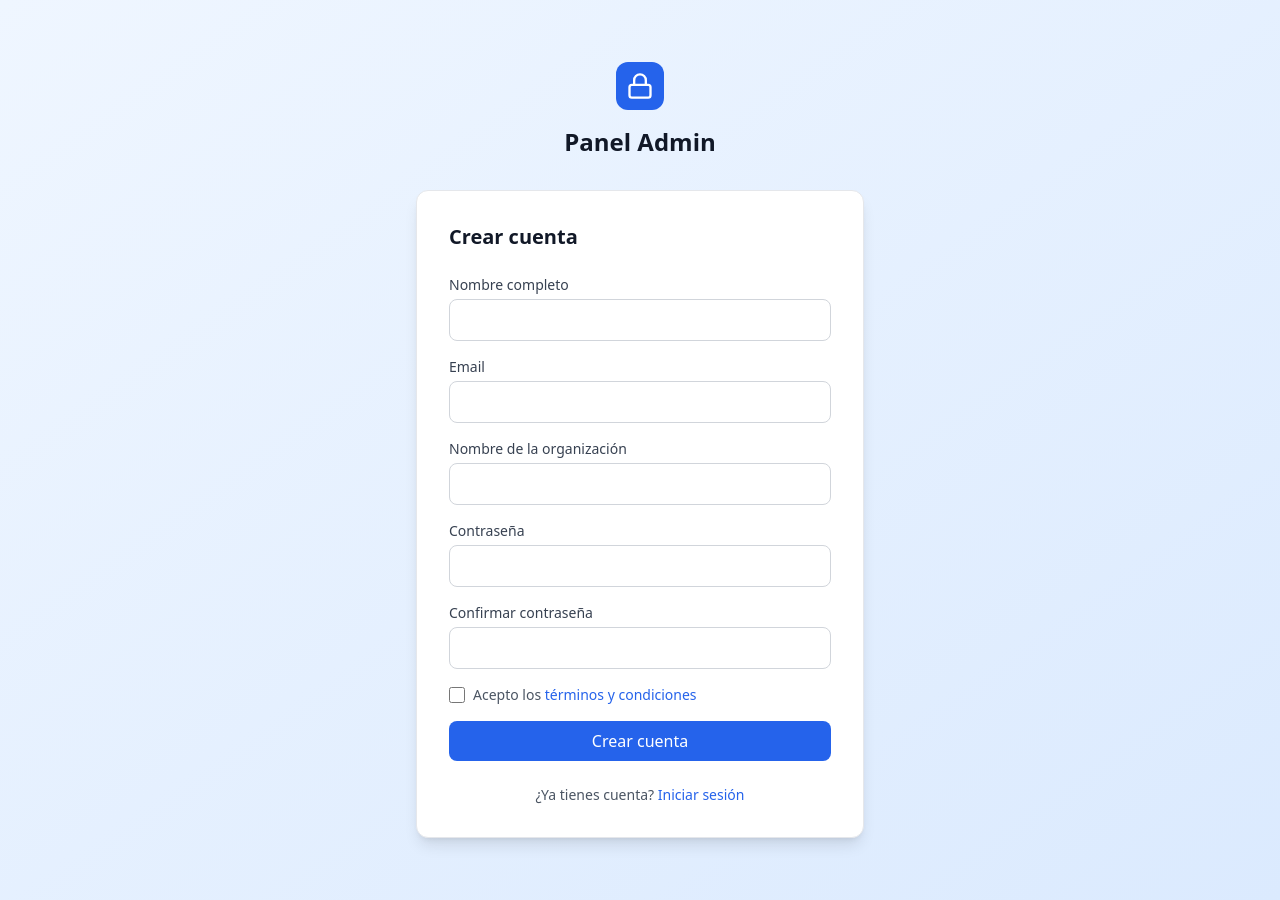
Test: RegisterPage › blocks submit when passwords do not match
In the field labelled "Nombre completo": (640, 320) [449,299,831,341], type "John Doe"
In the field labelled "Email": (640, 402) [449,381,831,423], type "john@example.com"
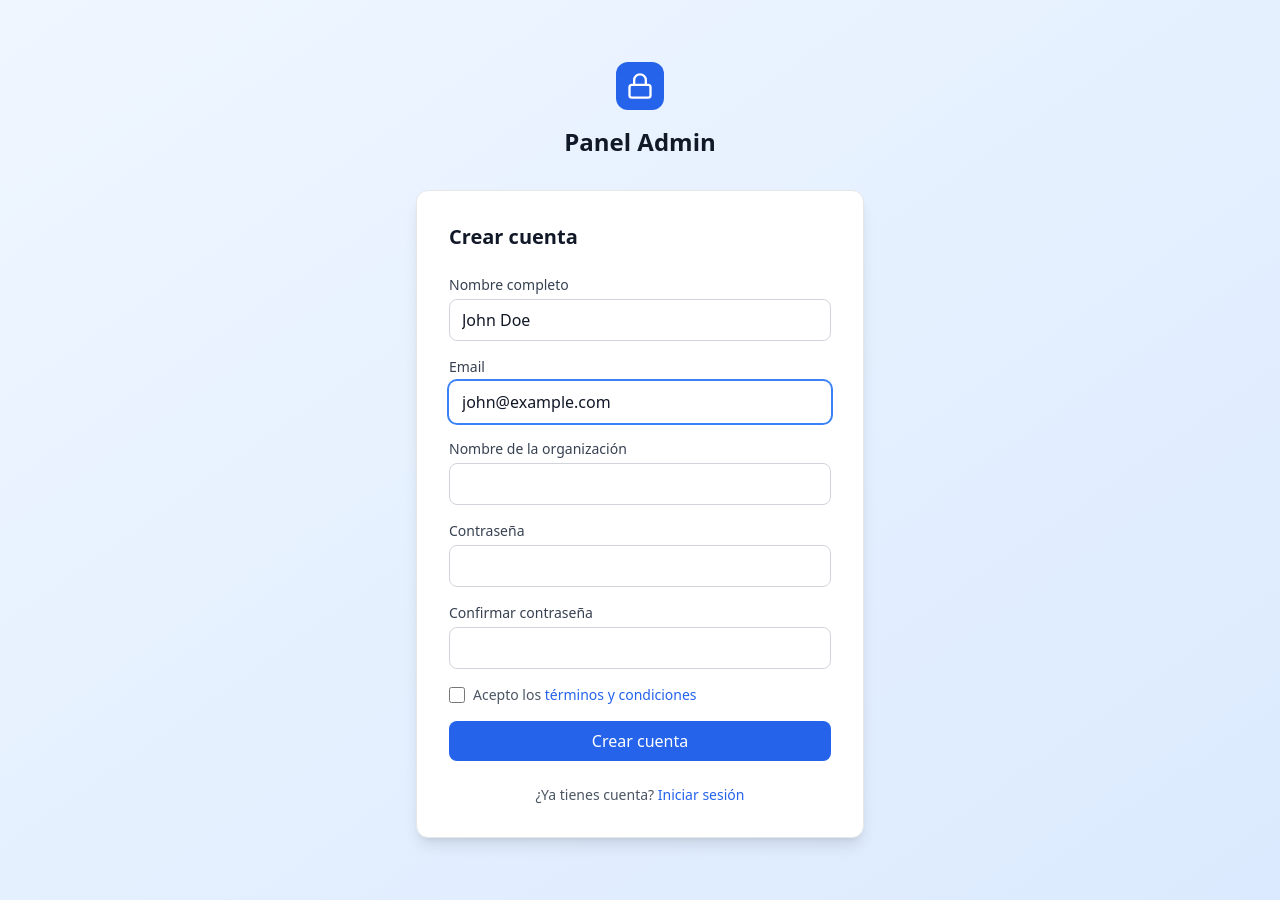
In the field labelled "Nombre de la organización": (640, 484) [449,463,831,505], type "Acme Corp"
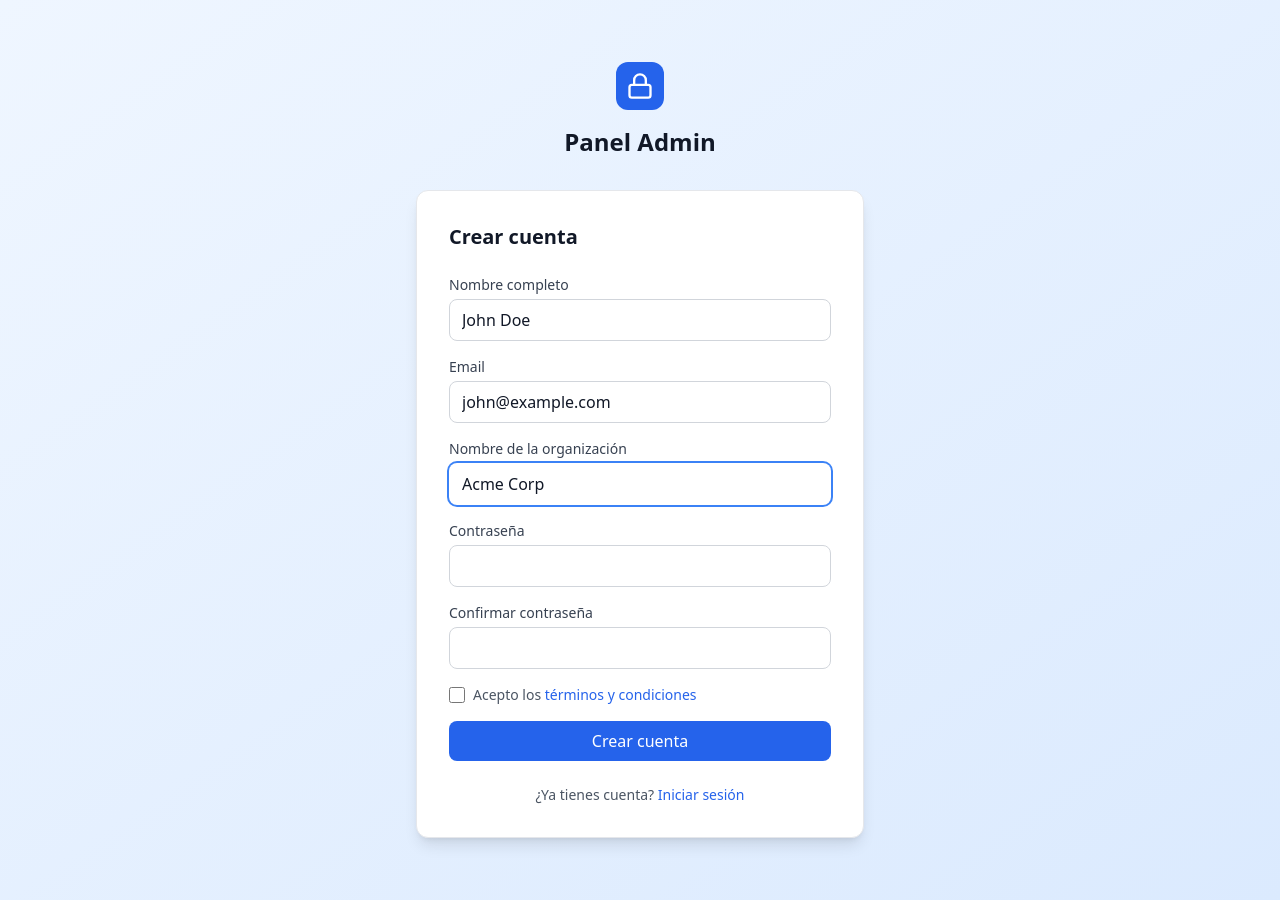
In the password field labelled "Contraseña": (640, 566) [449,545,831,587], type "password123"
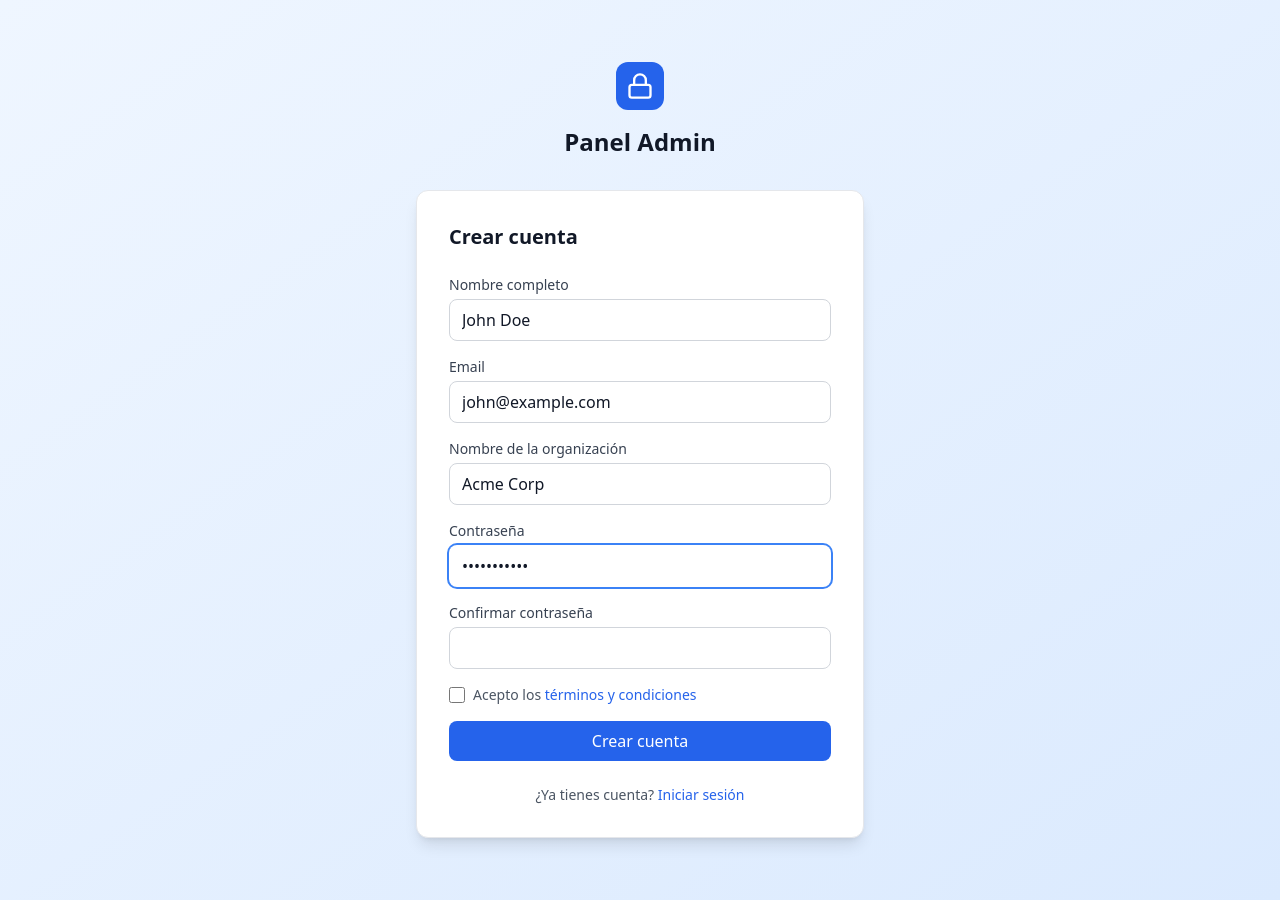
In the password field labelled "Confirmar contraseña": (640, 648) [449,627,831,669], type "different456"
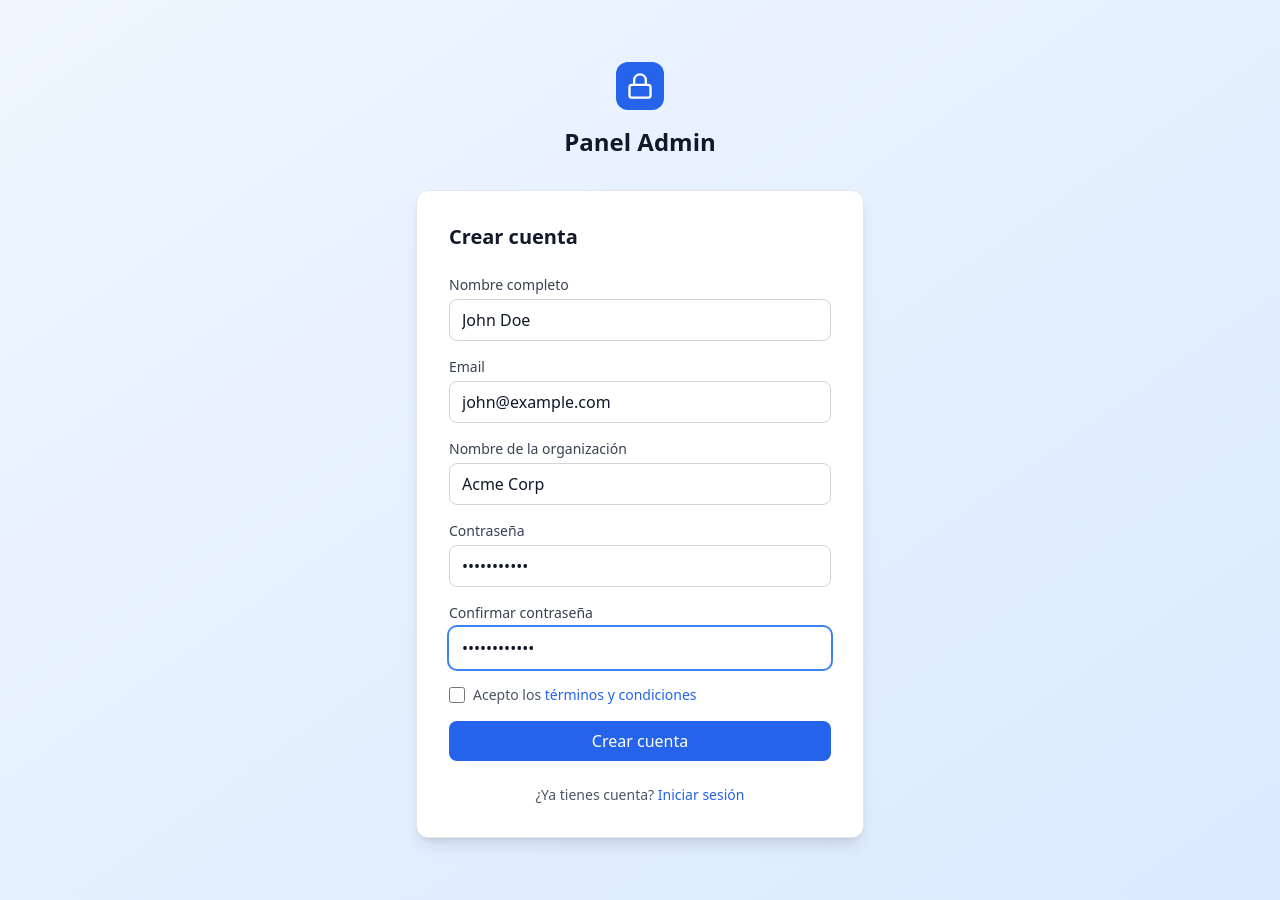
Click the checkbox labelled "Acepto los términos y condiciones": (457, 695) [449,687,465,703]
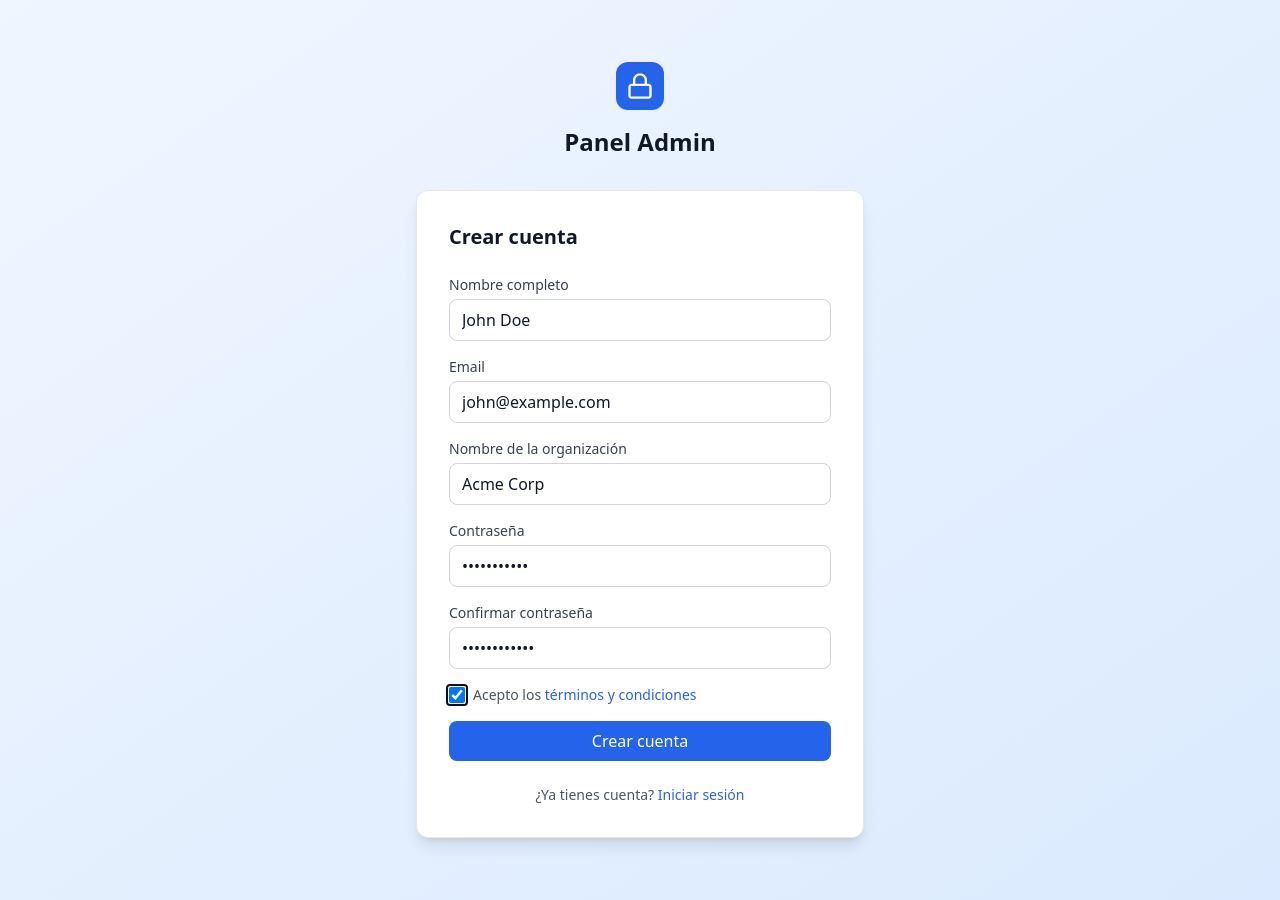
Click the button "Crear cuenta": (640, 741) [449,721,831,761]
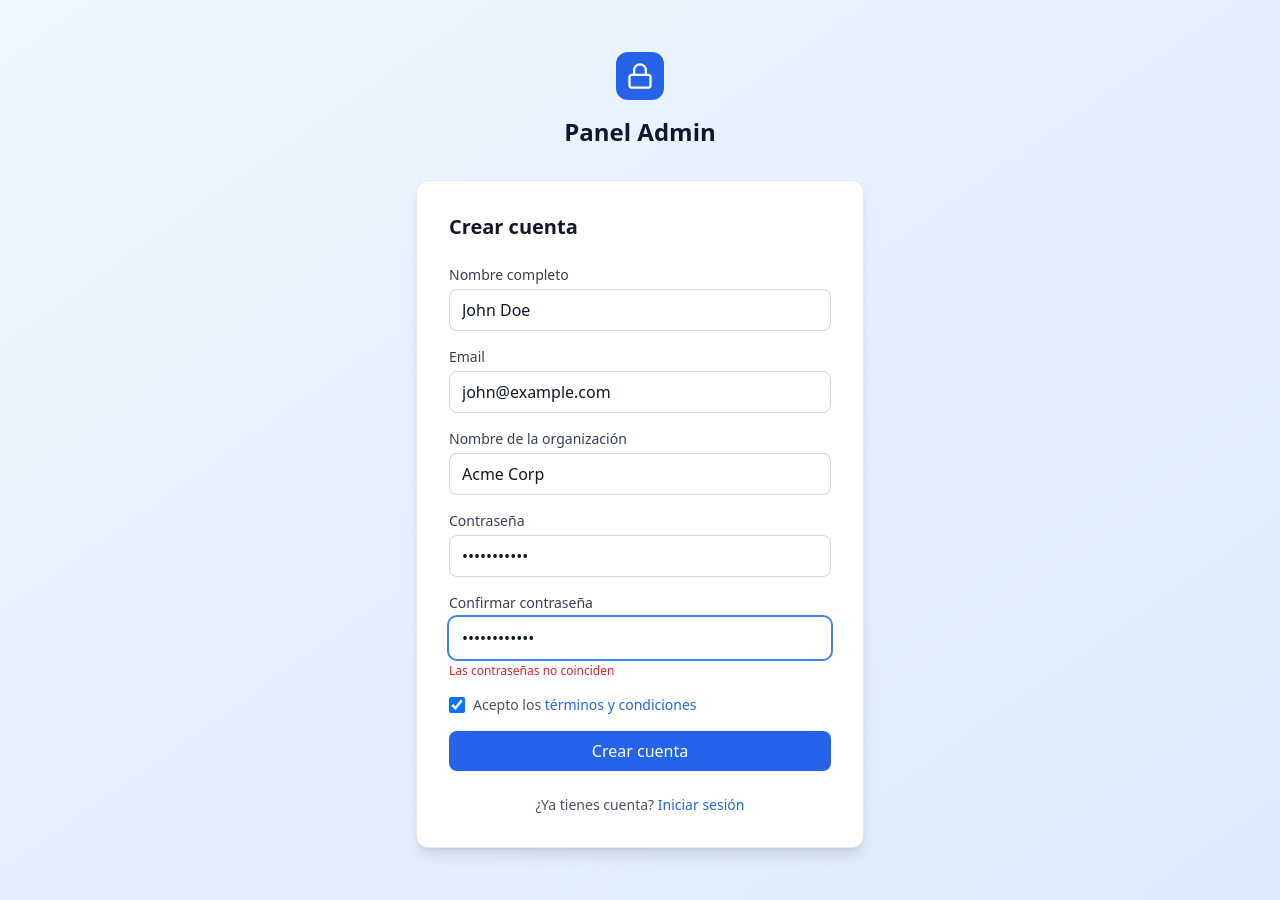
Now the text "Las contraseñas no coinciden" is shown, box [449,662,614,679]
